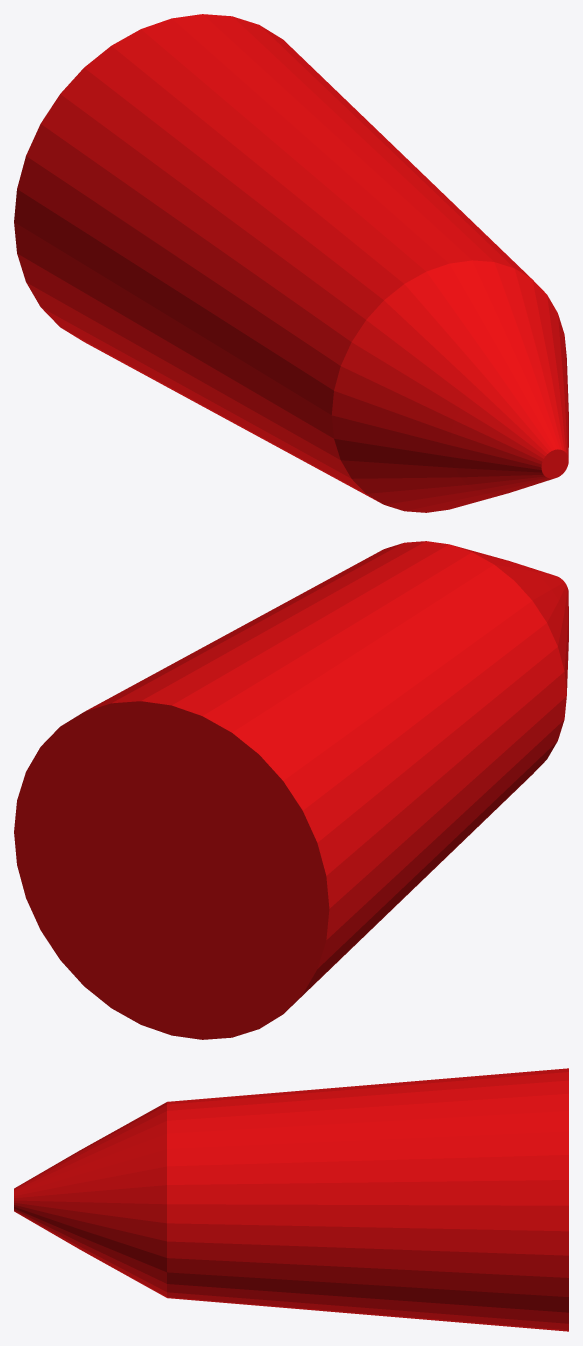
File: HumanTypeGunMan_ballchild.glb
3 views of the same model, one above another, from view 1: azimuth 30°, elevation 25°; view 2: azimuth 150°, elevation 25°; view 3: azimuth 270°, elevation 25° (orthographic). The views are drawn at different scales.
Visible parts, largest first — view 1: bullet; view 2: bullet; view 3: bullet.
Boxes of the visible parts, left/top/right/bottom form: bullet: left=14, top=14, right=568, bottom=512; bullet: left=14, top=541, right=568, bottom=1039; bullet: left=14, top=1068, right=568, bottom=1331.
Bounding box in the file's own units: 0.1347 × 0.1347 × 0.2835.
